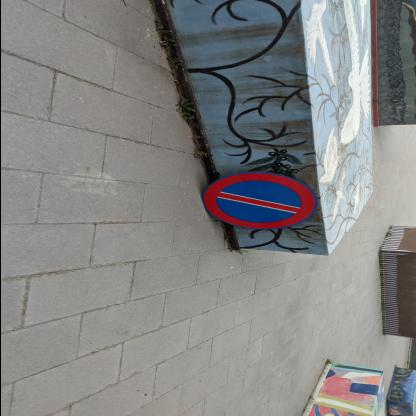No Waiting: (203, 172, 318, 231)
